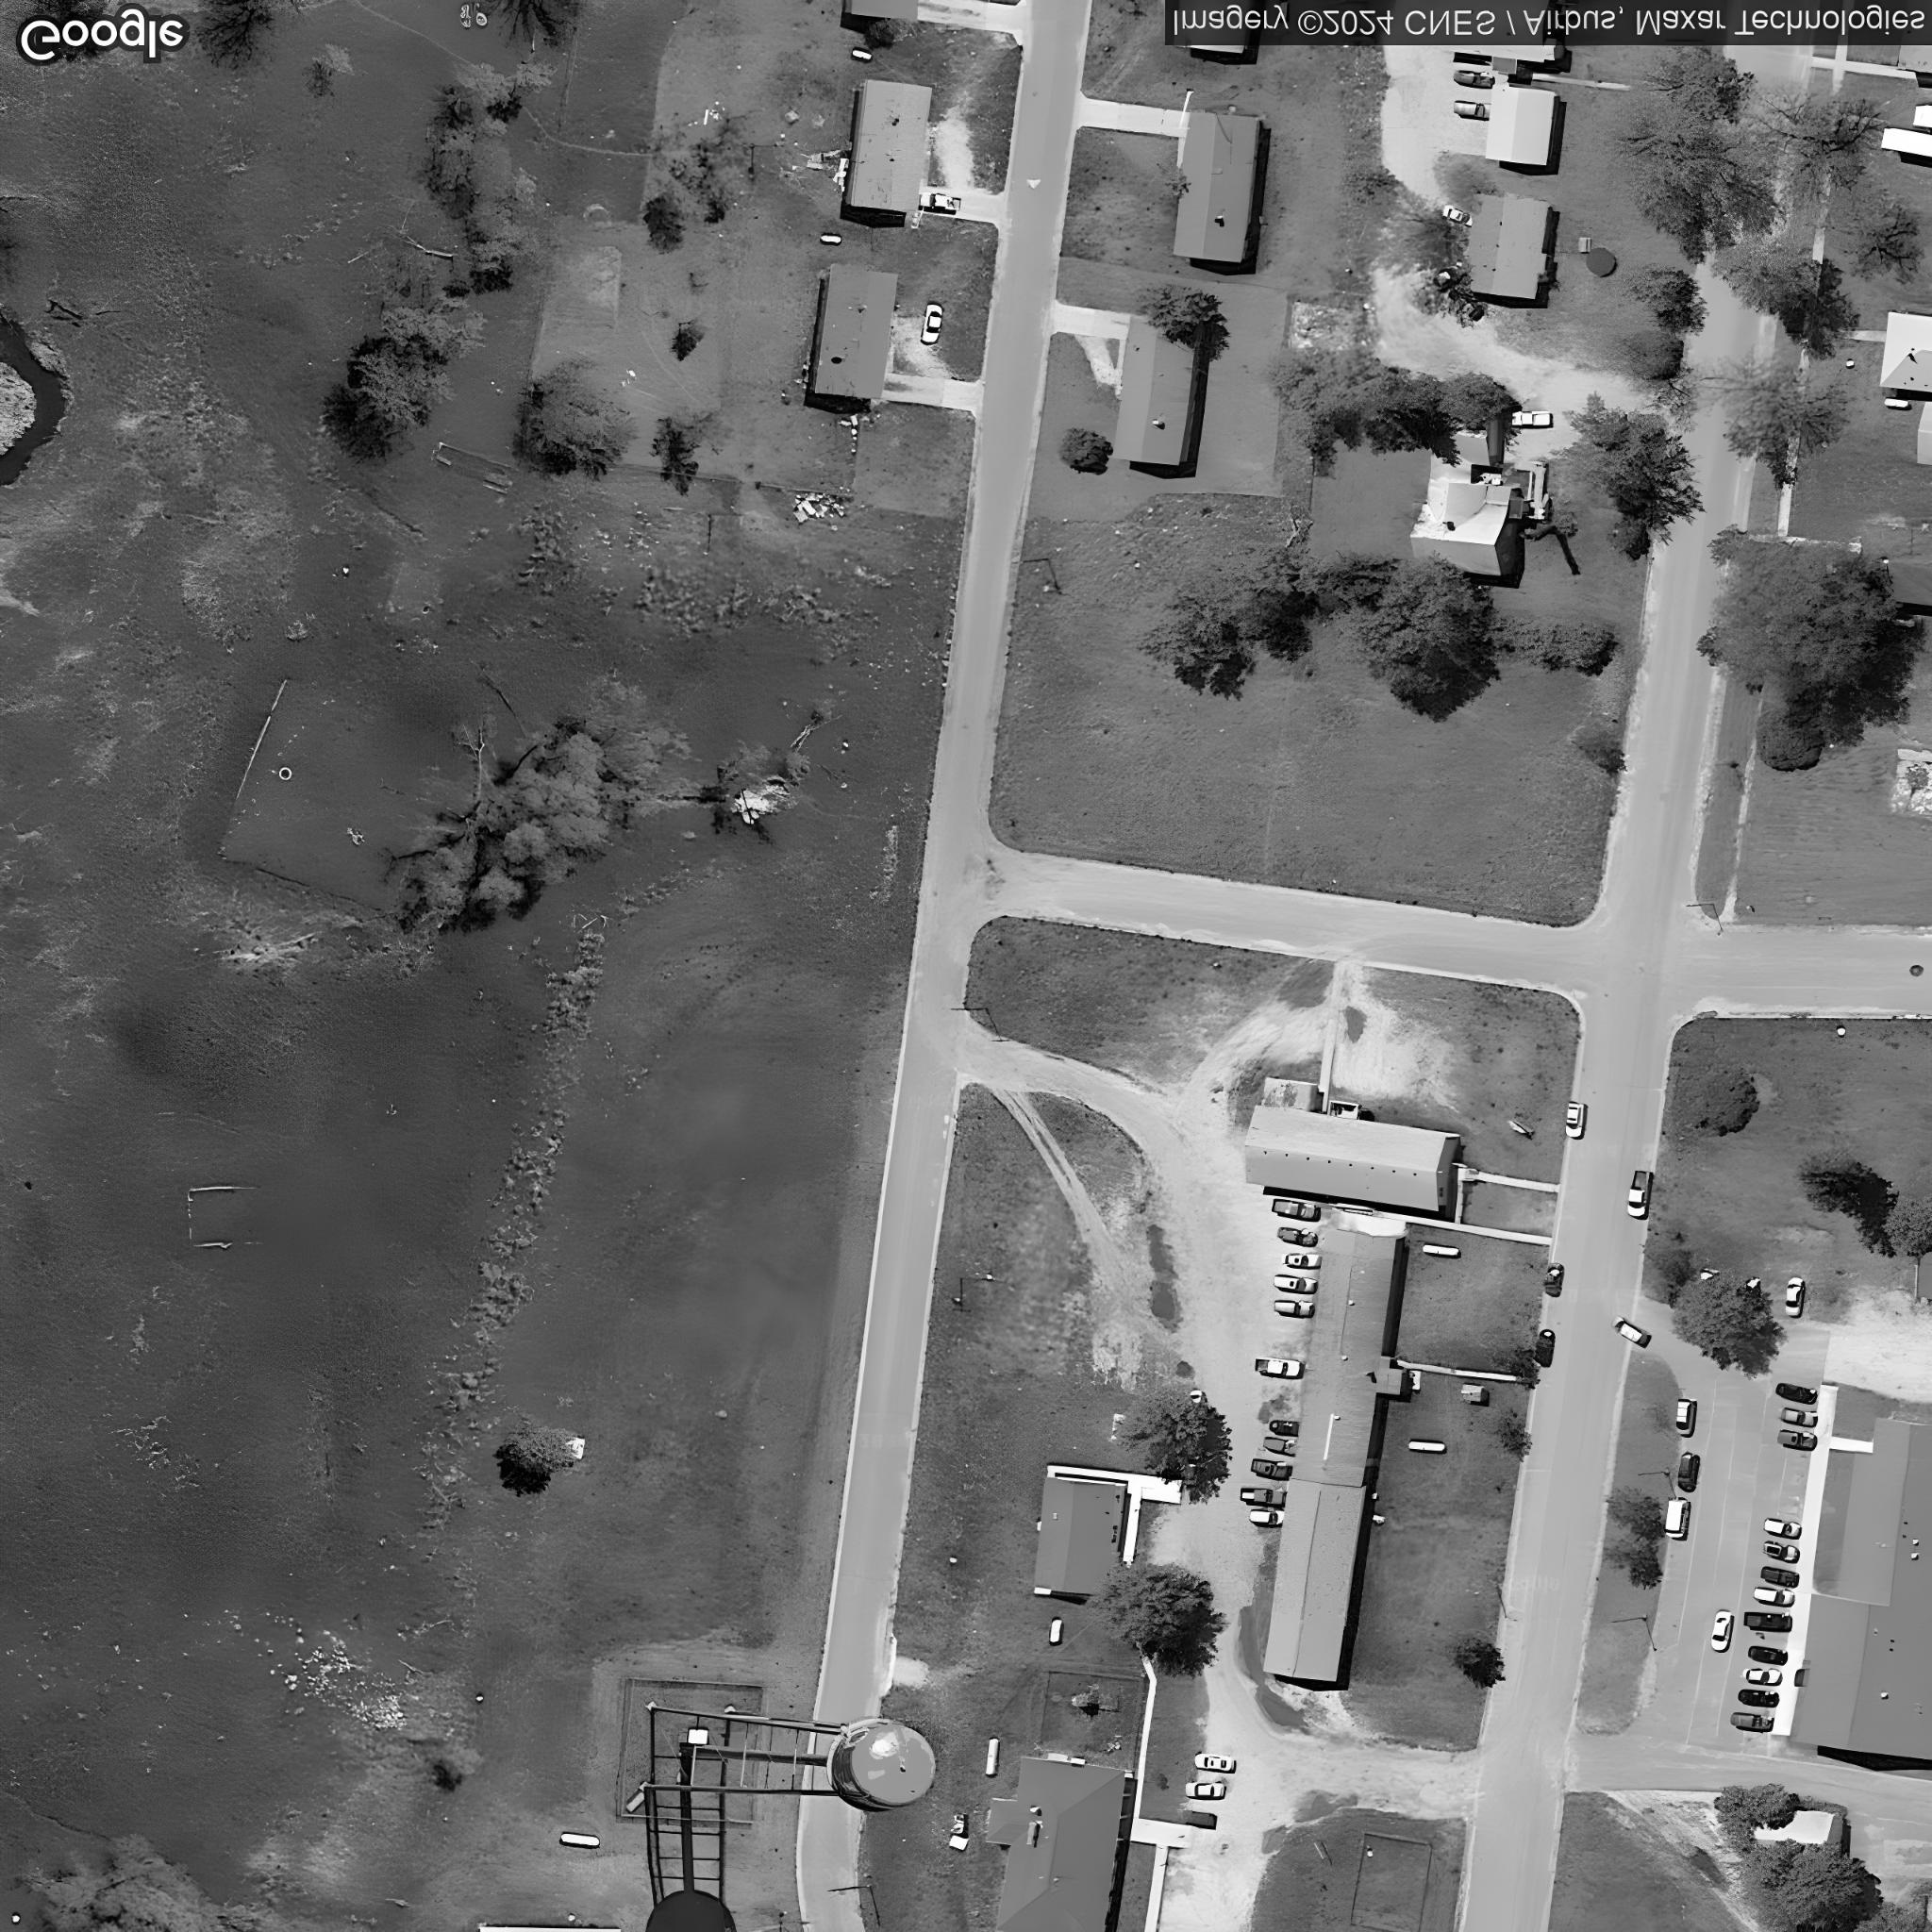Garage: (1484, 85, 1560, 163)
House: (1796, 1417, 1932, 1762), (984, 1757, 1127, 1932), (1410, 414, 1520, 575), (1111, 313, 1203, 465), (1171, 108, 1261, 262), (846, 78, 934, 214), (812, 262, 899, 400), (1035, 1476, 1125, 1594), (1458, 193, 1552, 301), (1877, 310, 1932, 393), (1428, 42, 1557, 65), (846, 0, 920, 23), (1879, 126, 1932, 157), (479, 1925, 623, 1932), (1897, 44, 1932, 73), (1178, 44, 1249, 57), (1909, 101, 1932, 127)
Other: (1260, 1224, 1407, 1684), (1244, 1104, 1463, 1210)
Propane: (559, 1831, 602, 1851), (985, 1736, 1001, 1780), (1419, 1242, 1461, 1258), (1407, 1438, 1449, 1454), (1049, 1615, 1065, 1647), (849, 46, 874, 65), (1884, 396, 1913, 412), (819, 232, 846, 246)
